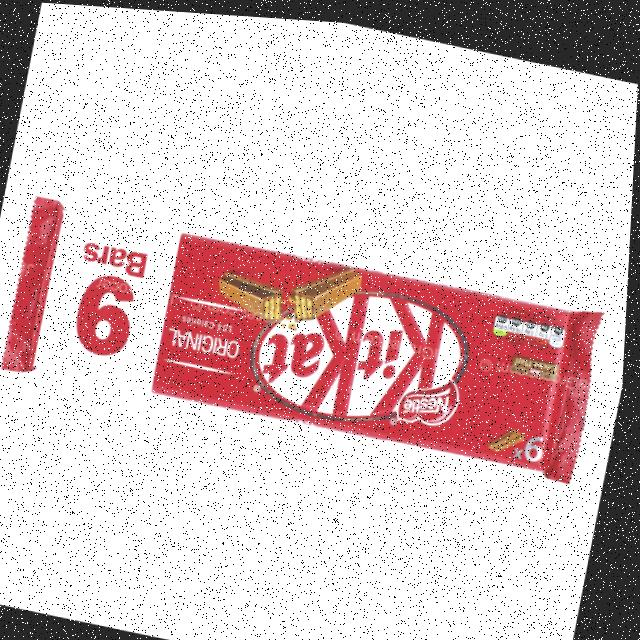kitkat: (5, 193, 613, 477)
